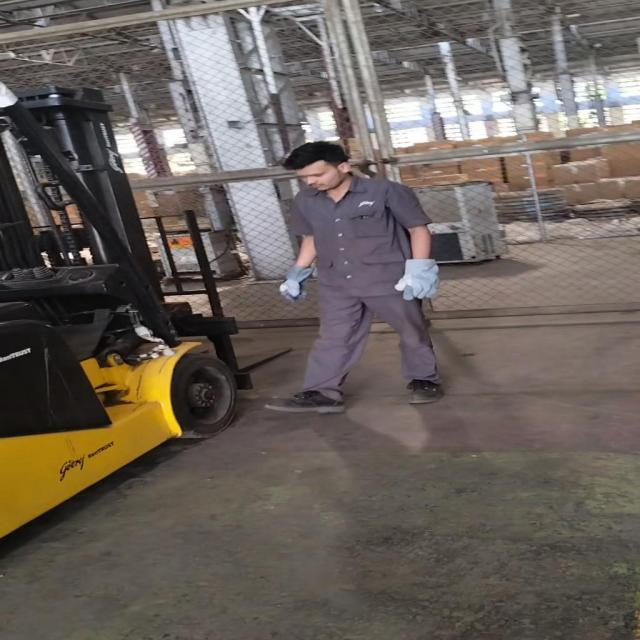Gloves-Detection: (391, 254, 439, 306), (282, 265, 311, 304)
